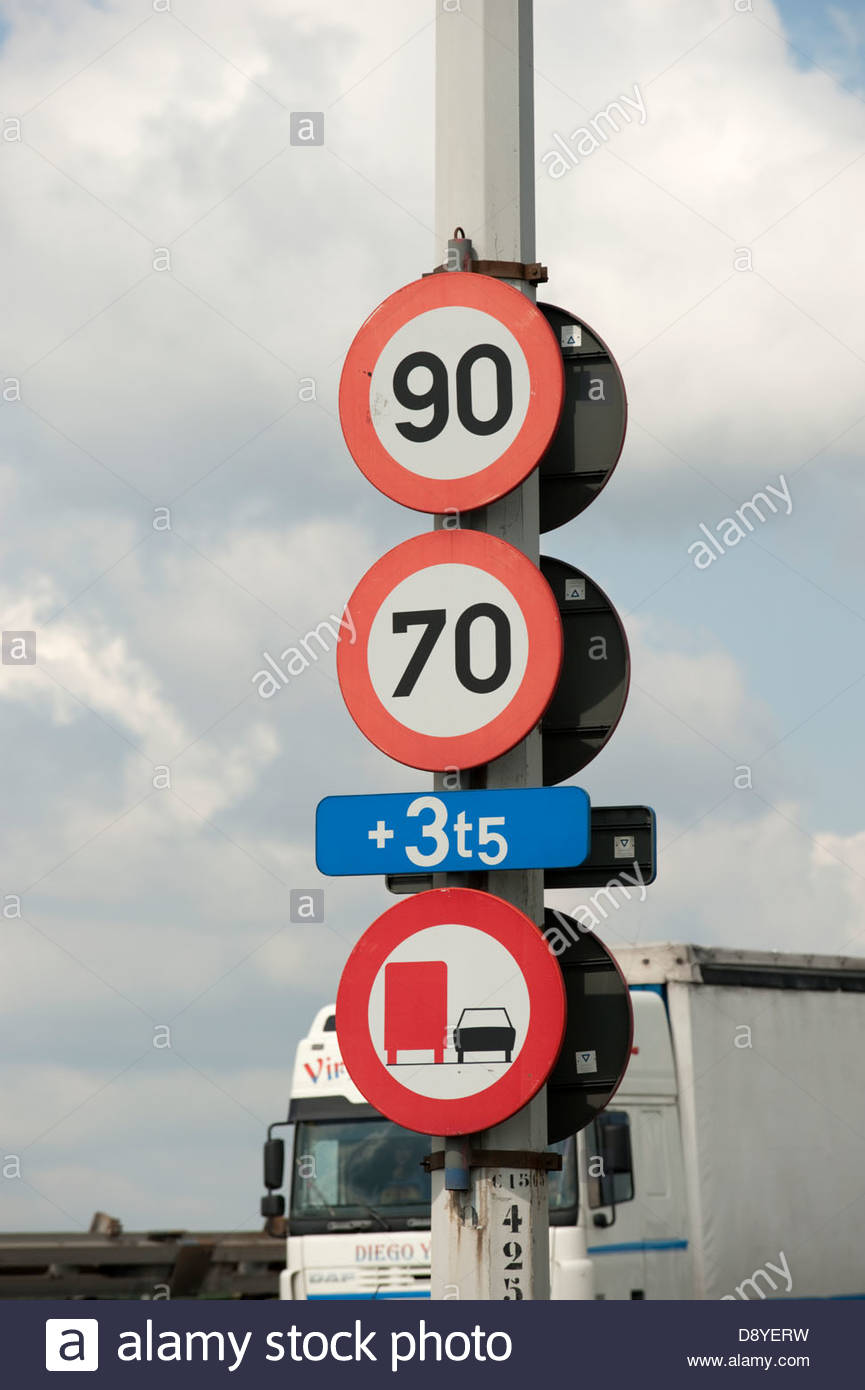speed_limit_70: (336, 530, 559, 775)
speed_limit_90: (338, 271, 562, 514)
